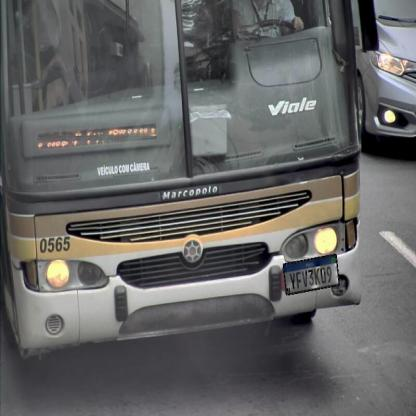PlacaM: (283, 254, 339, 295)
